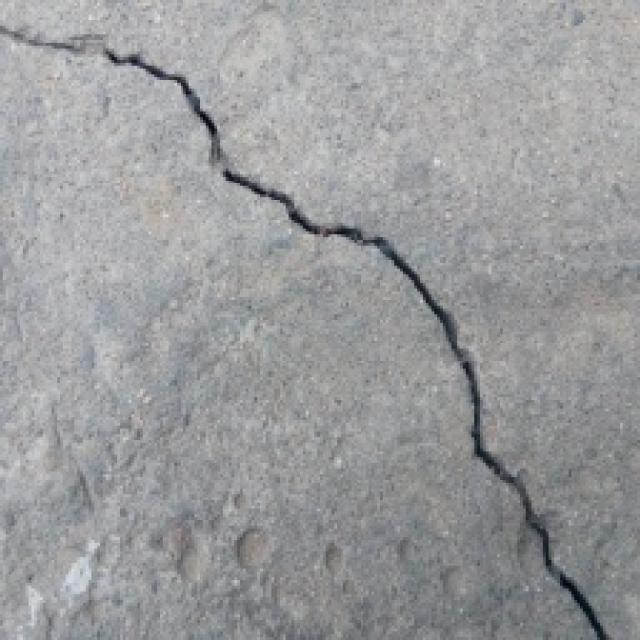SurfaceCrack: (2, 8, 618, 632)
